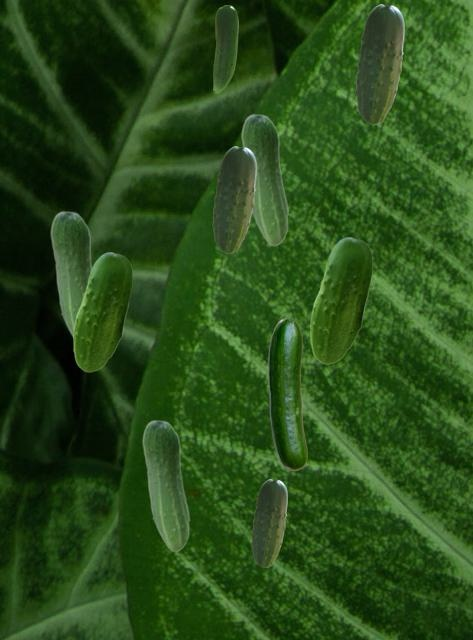cucumber: (310, 237, 371, 363), (73, 252, 131, 371), (241, 113, 288, 245), (142, 419, 189, 551), (268, 318, 306, 469), (355, 4, 403, 123), (50, 210, 92, 338), (212, 146, 255, 252), (251, 479, 286, 566), (213, 5, 237, 92)
